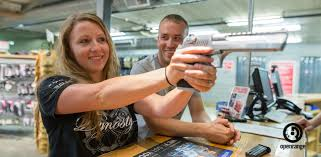gun: (180, 32, 288, 89)
